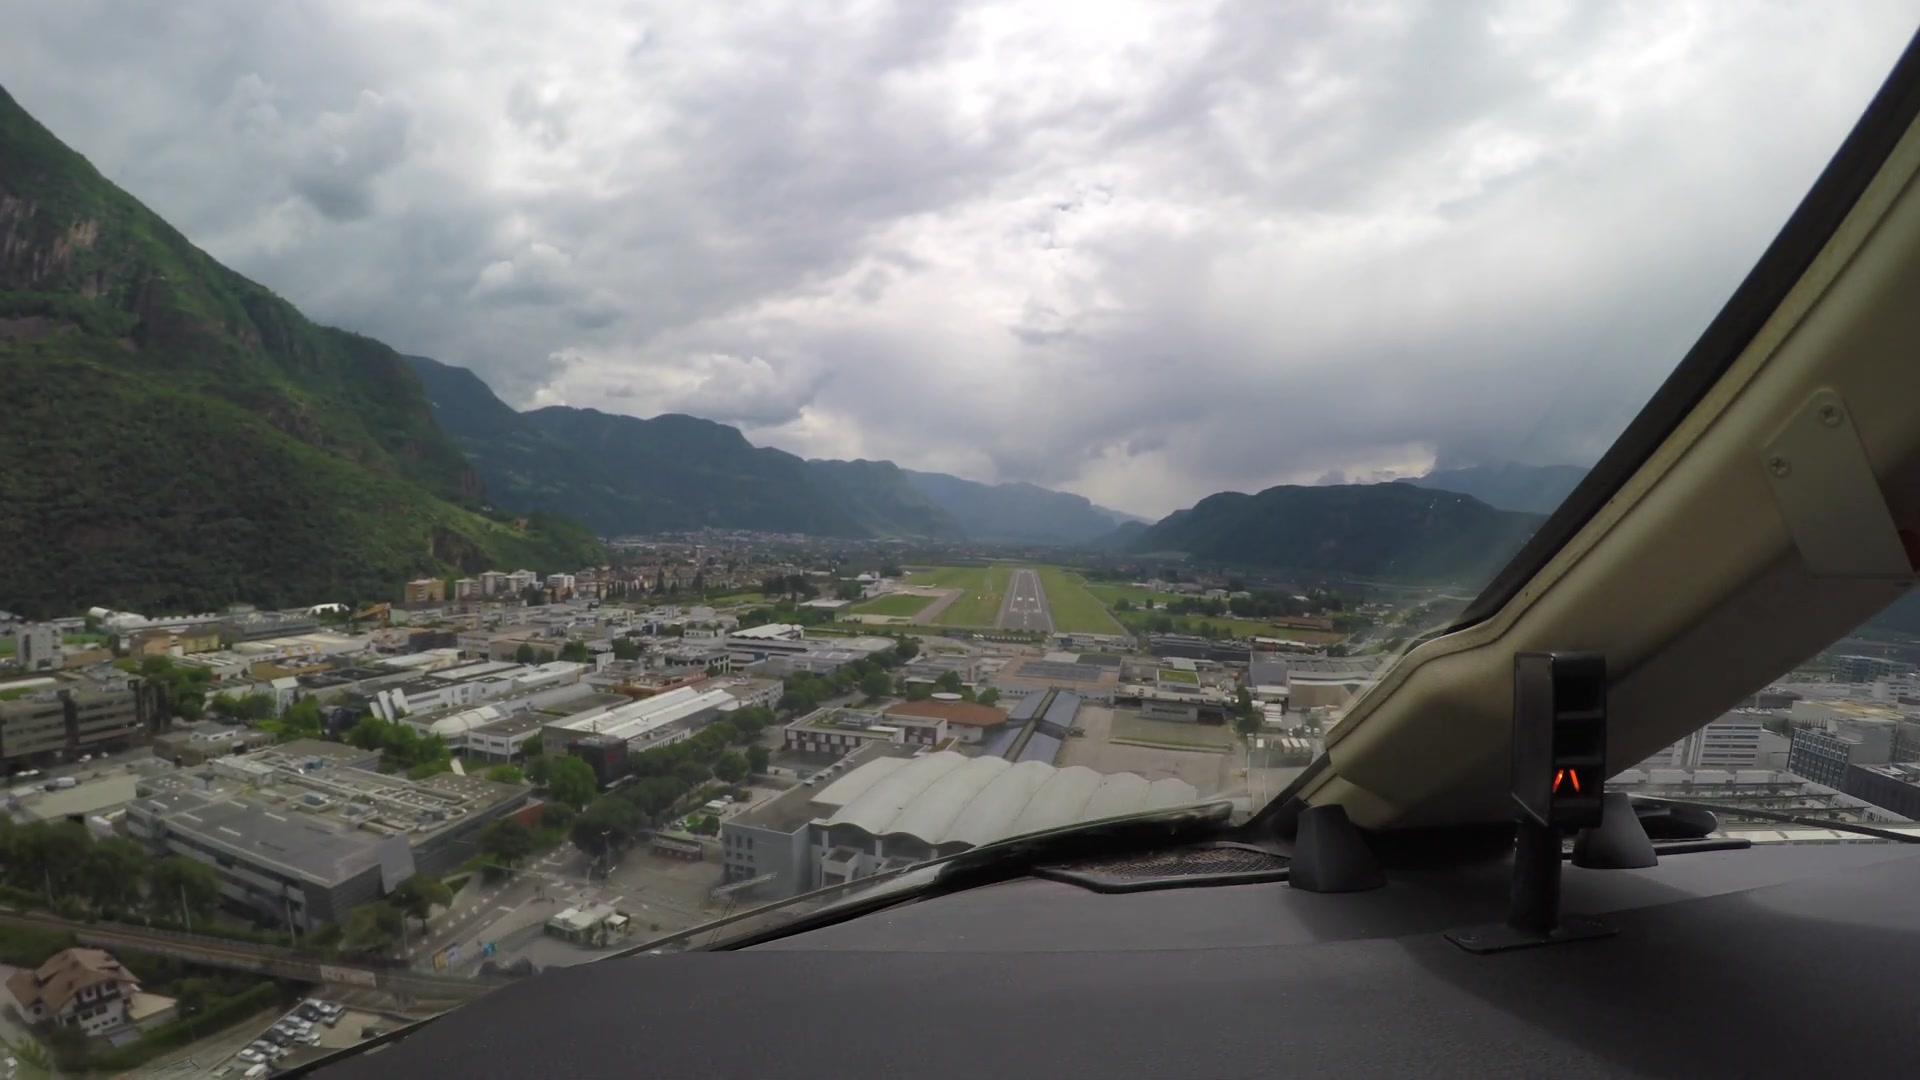entrance: (1009, 608, 1038, 613)
runway: (993, 568, 1058, 630)
